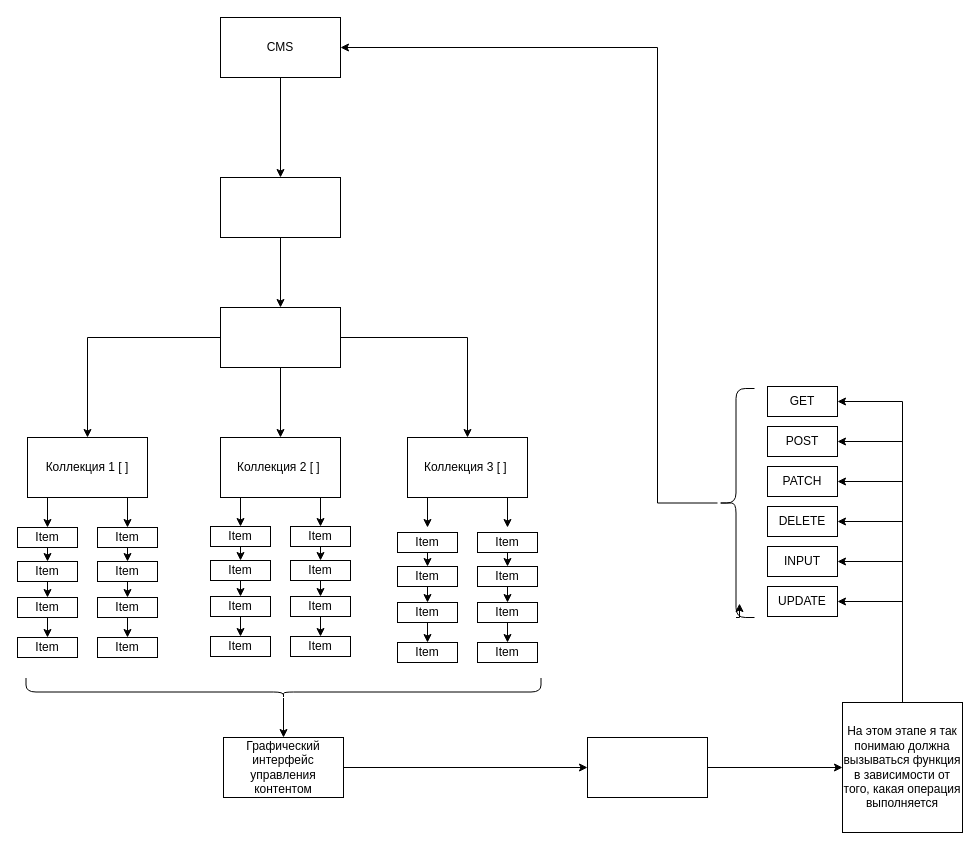
Some shapes in this 980 by 850 pixel diagram are drawn without their labels. Each missing label, with the box of its shape:
DB: (220, 306, 340, 368)
Скрипт: (220, 176, 340, 238)
Скрипт обработки запроса: (586, 736, 708, 798)
